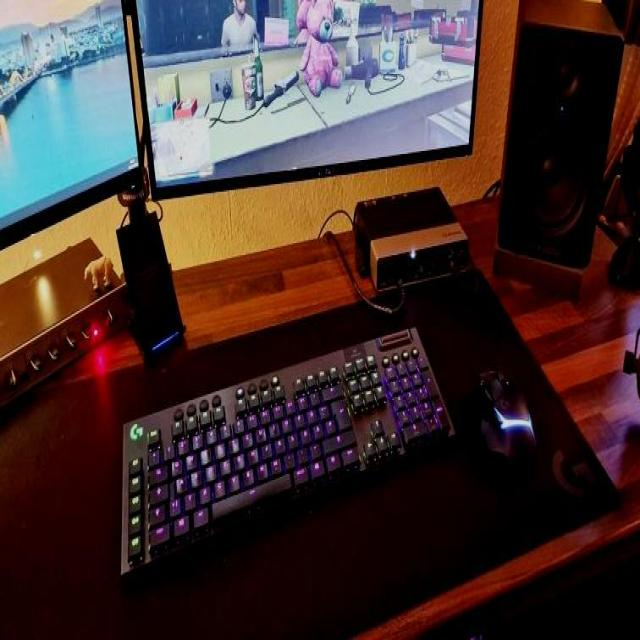keyboard: (118, 323, 456, 577)
